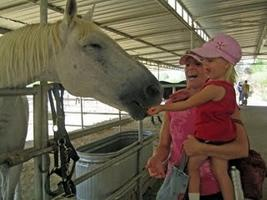person: (147, 33, 243, 200)
